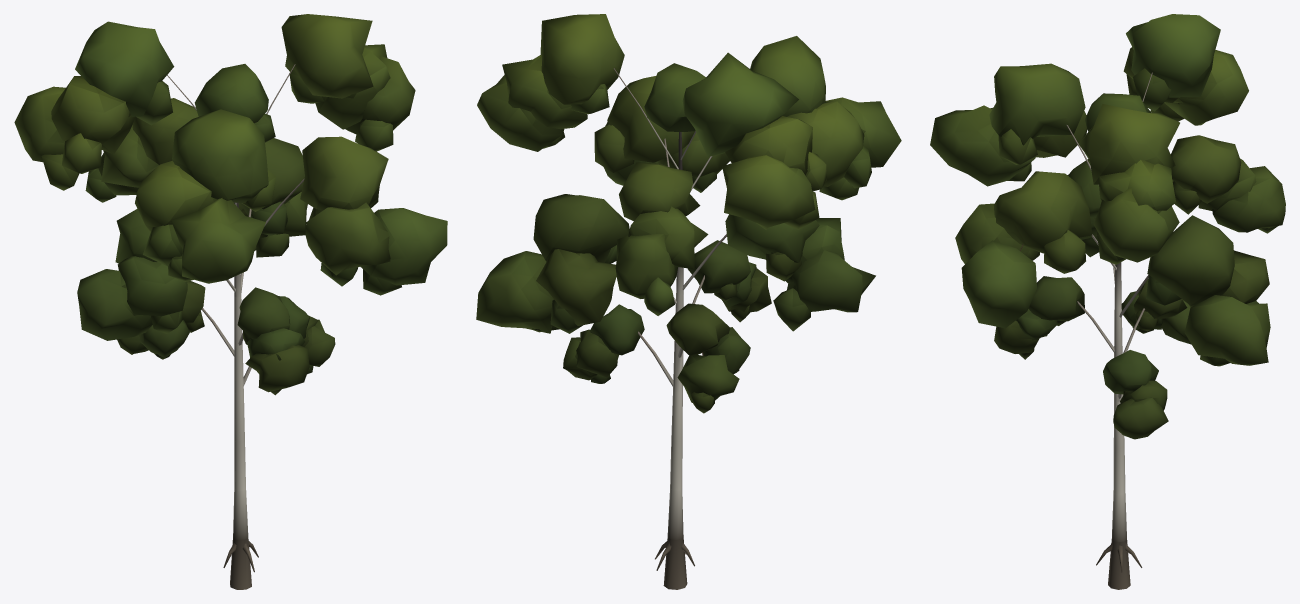
File: birch_e.glb
3 renders of one model, left to right at view 1: azimuth 30°, elevation 25°; view 2: azimuth 150°, elevation 25°; view 3: azimuth 270°, elevation 25°, orthographic. The views are drawn at different scales.
Visible parts, largest first — view 1: LOD0; view 2: LOD0; view 3: LOD0.
Boxes of the visible parts, box(x1,y1,x2,y2) form: LOD0: box(14, 14, 447, 589); LOD0: box(476, 14, 901, 589); LOD0: box(930, 14, 1285, 589).
Size of what is drawn, in the model's own units: 9.94 by 15.04 by 9.1.
